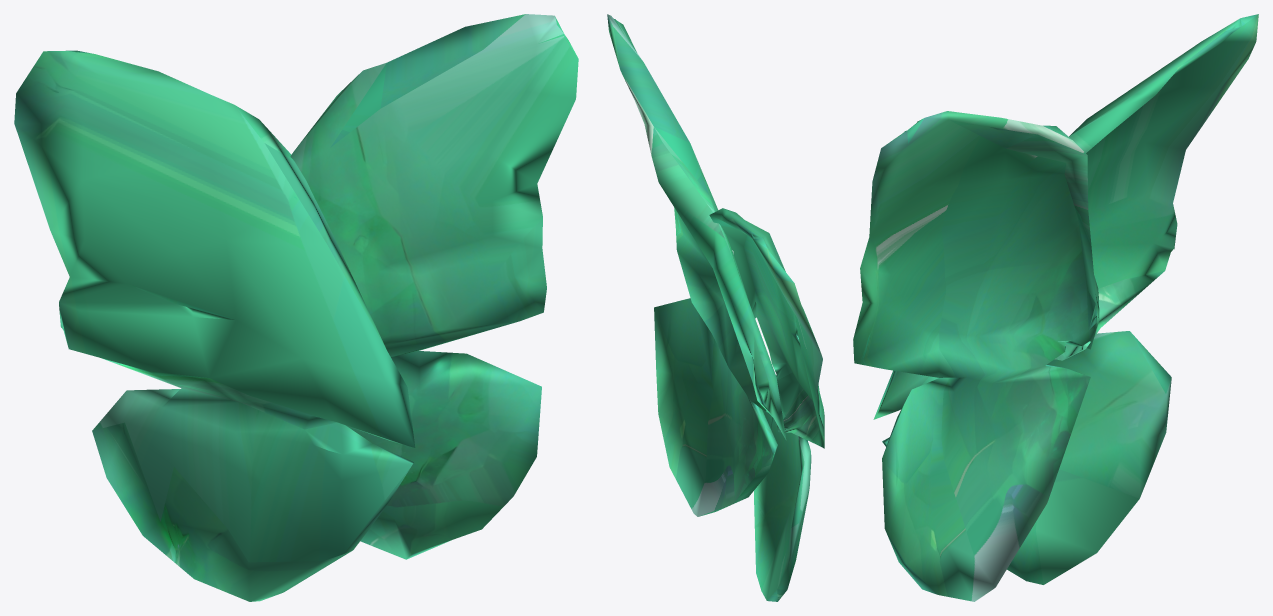
File: Blue_Geometry_Wing_0727052959_texture.fbx
3 views of the same model, side by side, from view 1: azimuth 30°, elevation 25°; view 2: azimuth 150°, elevation 25°; view 3: azimuth 270°, elevation 25° (orthographic). The views are drawn at different scales.
Visible parts, largest first — view 1: Mesh1; view 2: Mesh1; view 3: Mesh1.
Boxes of the visible parts, <box> form: Mesh1: <box>14,14,578,601</box>; Mesh1: <box>607,14,824,601</box>; Mesh1: <box>853,14,1258,601</box>.
Size of the model in its own units: 160 by 226 by 142.
